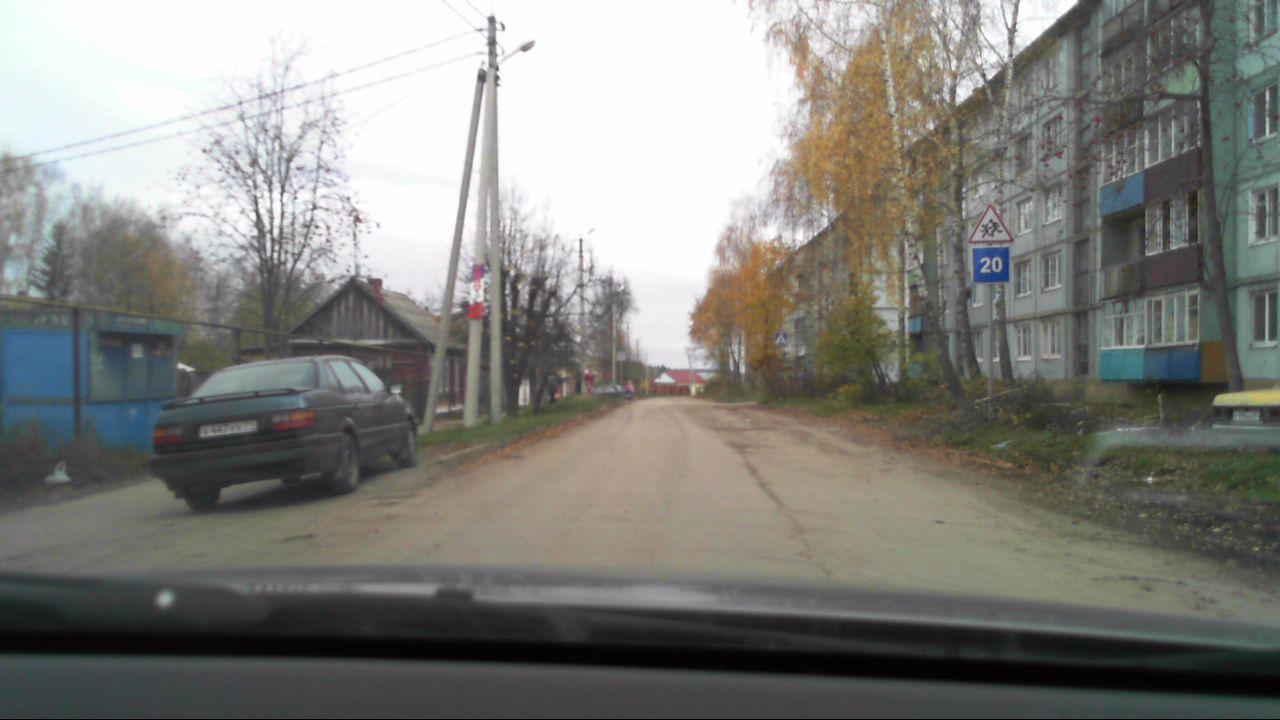1_23: (970, 205, 1012, 244)
5_19_1: (773, 330, 790, 348)
6_2: (970, 244, 1009, 281)
